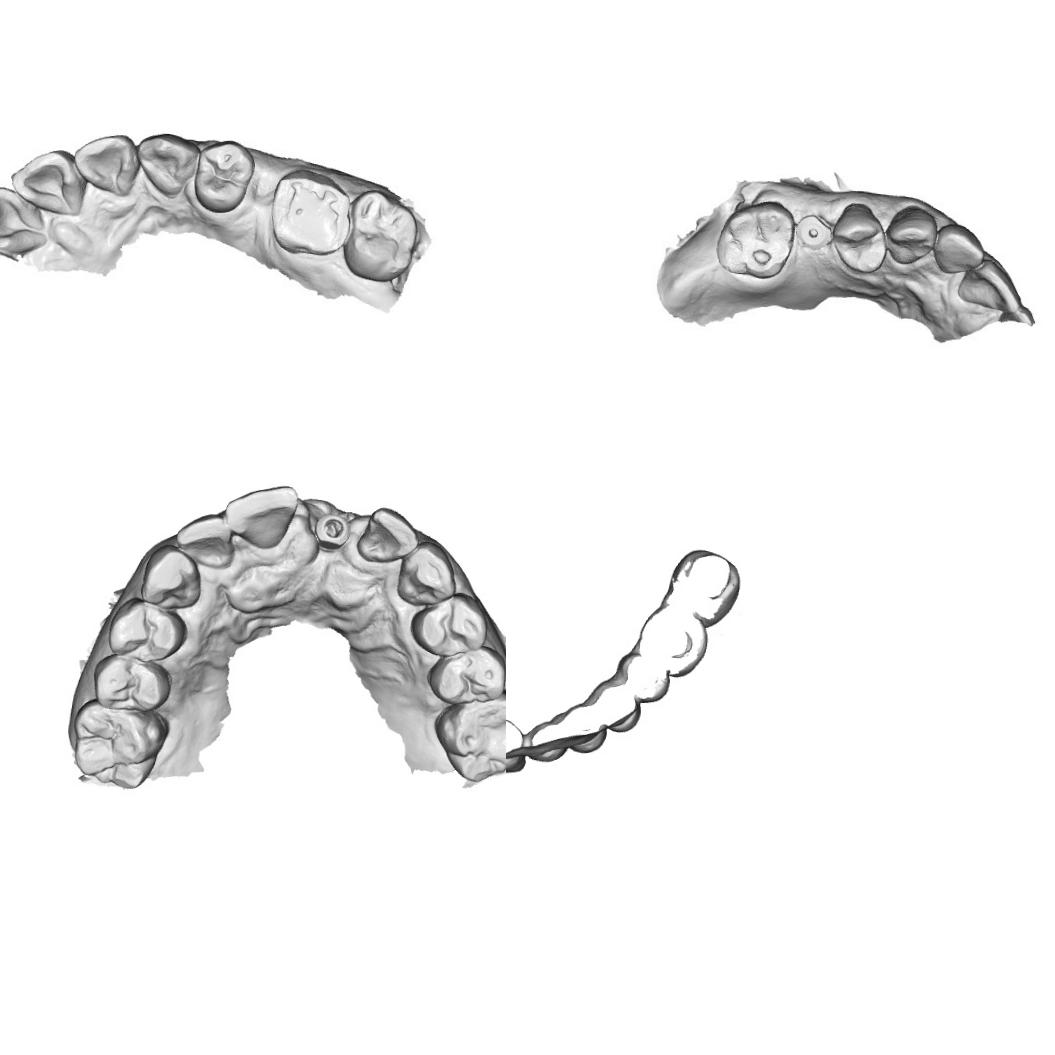canine: (395, 540, 460, 608), (139, 544, 199, 610), (887, 204, 940, 264)
implant: (796, 209, 838, 255), (312, 510, 351, 550)
incisor: (7, 148, 86, 219), (222, 482, 299, 551), (136, 130, 201, 202), (74, 132, 137, 200), (355, 505, 420, 566), (0, 181, 49, 258), (958, 254, 1022, 312), (172, 511, 234, 568), (930, 220, 986, 273)
molar: (67, 699, 170, 790), (340, 188, 418, 284), (268, 168, 352, 257), (429, 688, 506, 785), (714, 198, 793, 282)
premolar: (408, 589, 492, 660), (104, 596, 188, 665), (422, 643, 506, 708), (89, 652, 170, 714), (192, 138, 254, 214), (832, 198, 887, 274)
